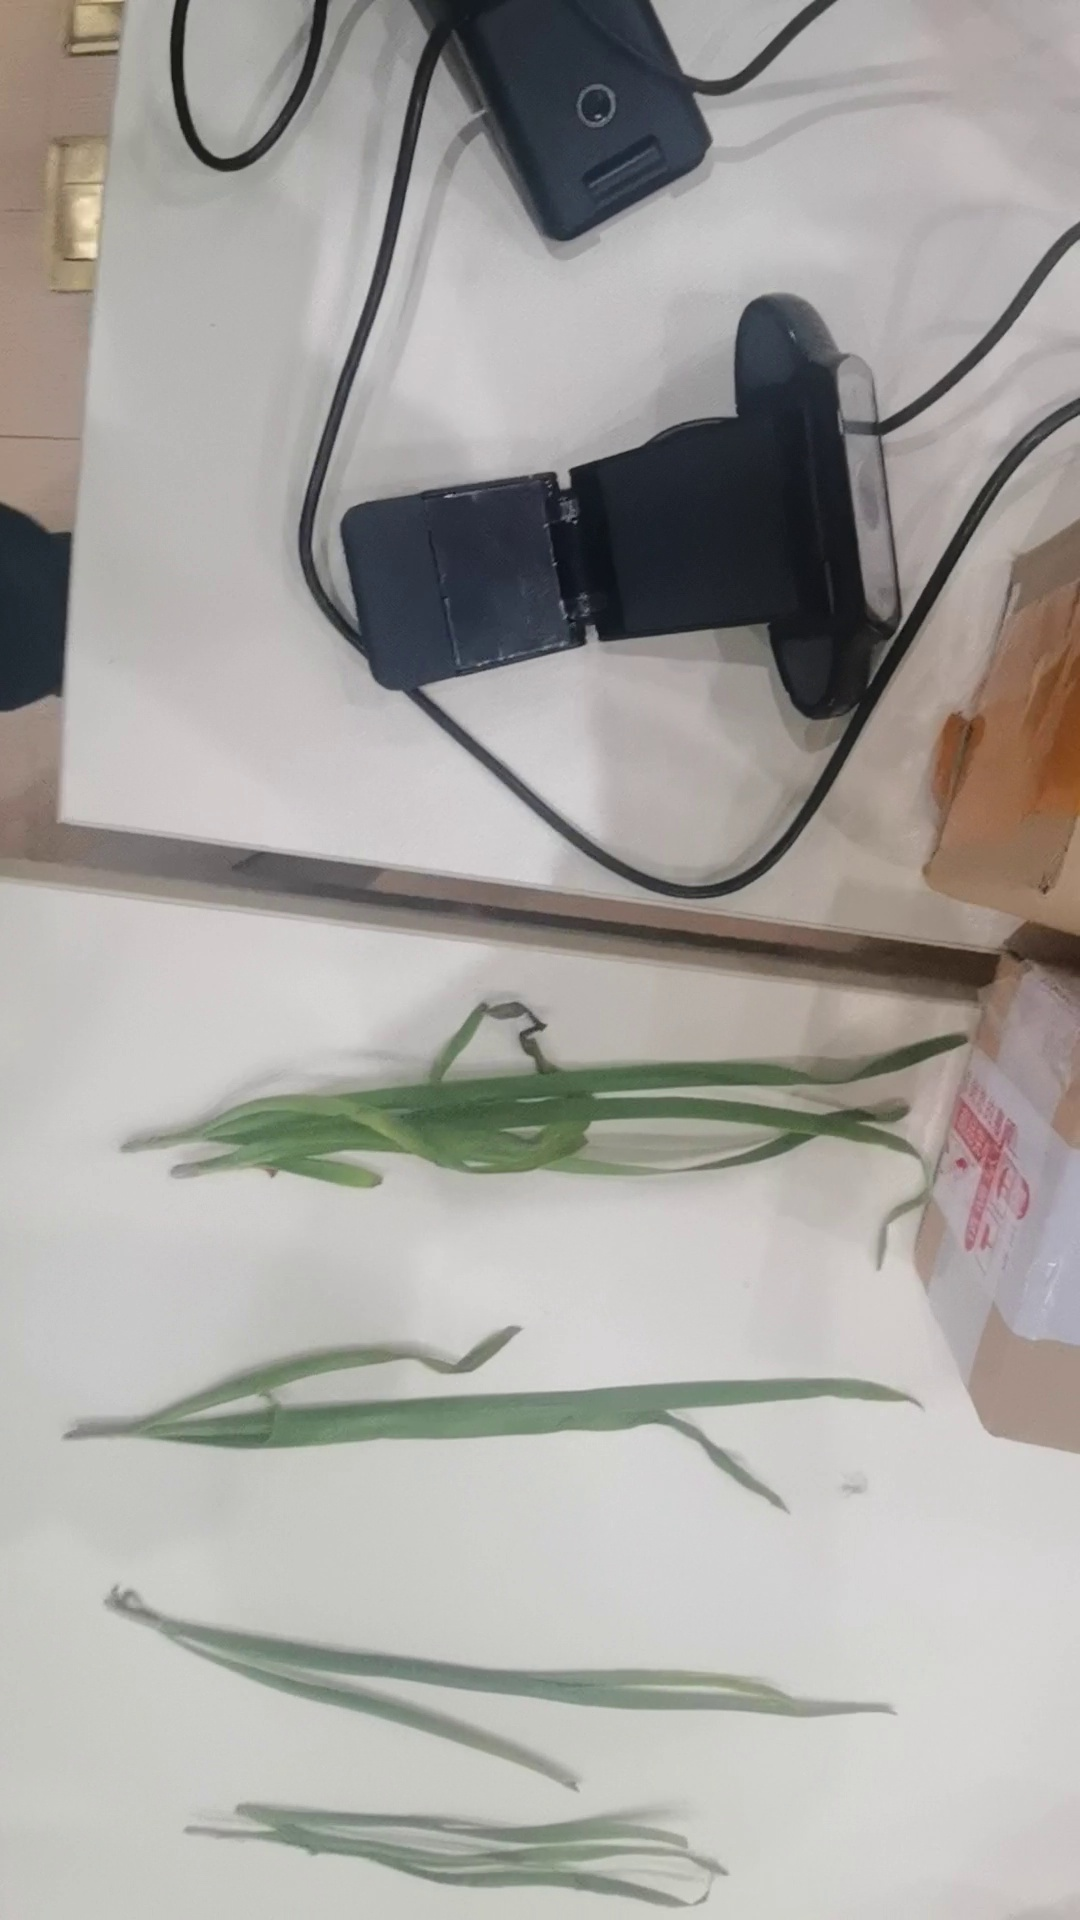chives: (123, 980, 982, 1218), (45, 1338, 978, 1523), (75, 1564, 872, 1768), (202, 1753, 757, 1898)
